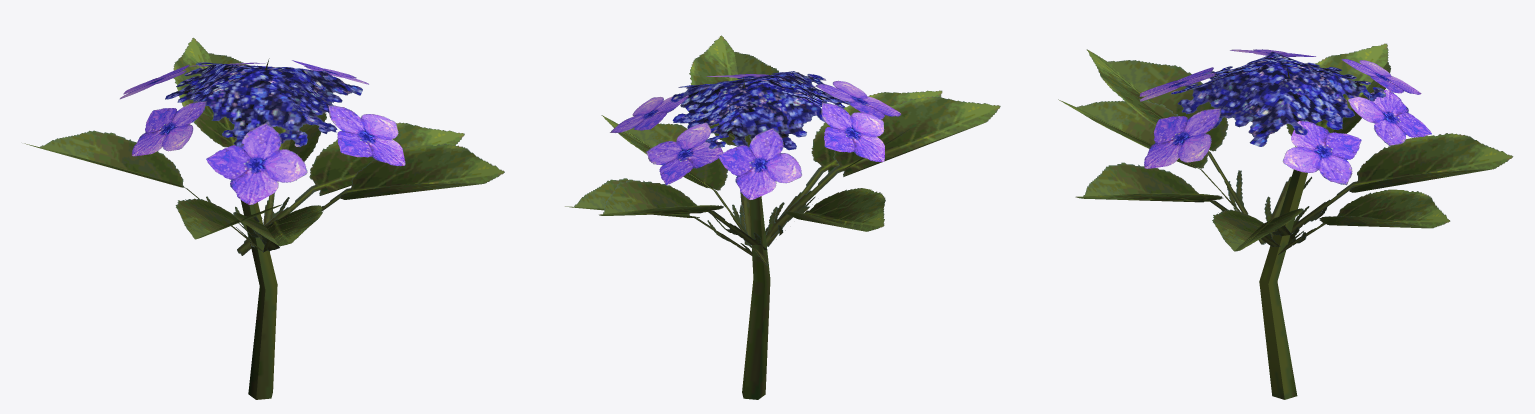
The model's file is Plant_3002_zhiwu01_hua11.FBX.
The picture shows the model from 3 angles, left to right: view 1: azimuth 30°, elevation 25°; view 2: azimuth 150°, elevation 25°; view 3: azimuth 270°, elevation 25°; orthographic projection. The views are drawn at different scales.
Parts seen in each view (by area): view 1: Plant_3002_zhiwu01_hua11; view 2: Plant_3002_zhiwu01_hua11; view 3: Plant_3002_zhiwu01_hua11.
Boxes of the visible parts, x1,y1,x2,y2 form: Plant_3002_zhiwu01_hua11: (24, 37, 504, 399); Plant_3002_zhiwu01_hua11: (565, 35, 1000, 399); Plant_3002_zhiwu01_hua11: (1058, 43, 1513, 399).
Bounding box in the file's own units: 76.42 × 62.59 × 81.8.
